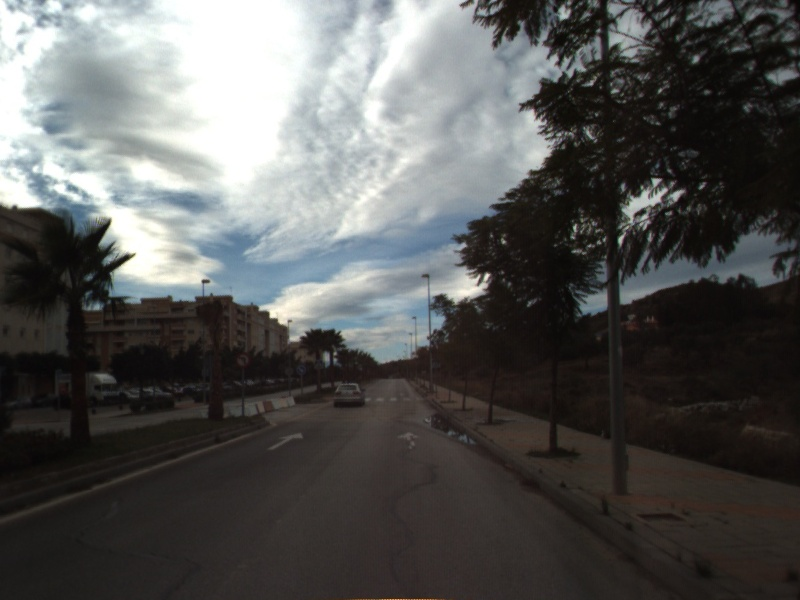STRAIGHT: (265, 430, 305, 452), (395, 429, 423, 452)
